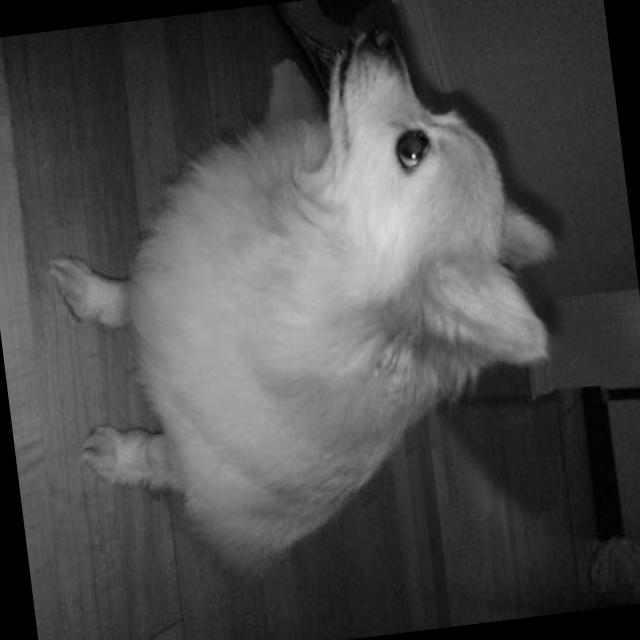sitting: (19, 0, 595, 598)
